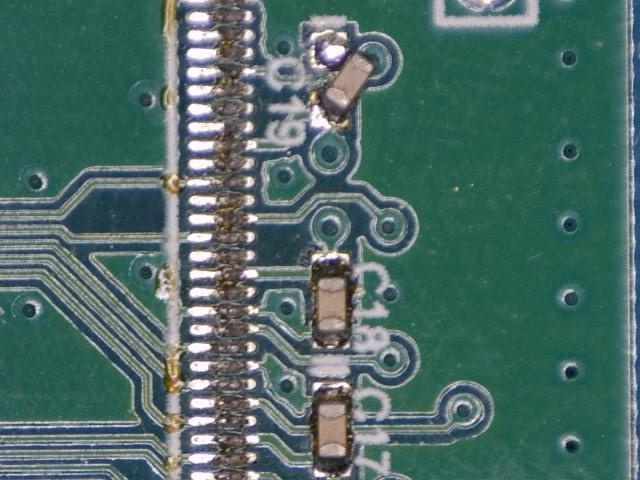pcb_defect: (310, 32, 376, 129)
